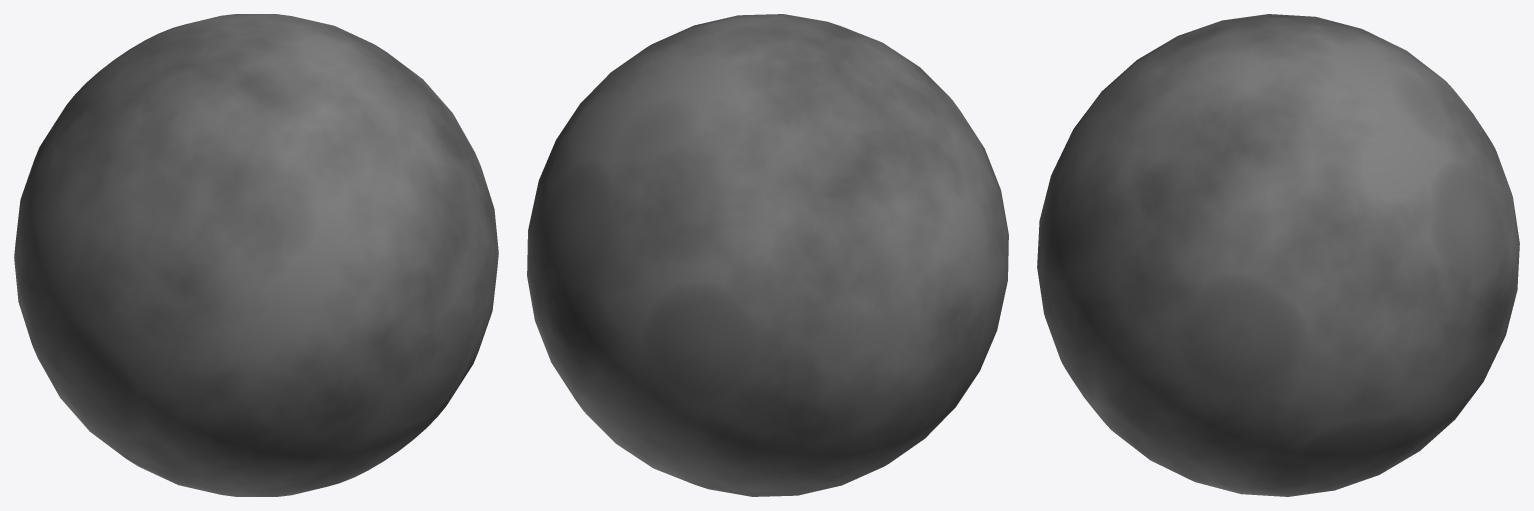
The model's file is Asteroid.dae.
3 renders of one model, left to right at view 1: azimuth 30°, elevation 25°; view 2: azimuth 150°, elevation 25°; view 3: azimuth 270°, elevation 25°, orthographic.
Parts seen in each view (by area): view 1: Sphere; view 2: Sphere; view 3: Sphere.
Boxes of the visible parts, bbox=[...] form: Sphere: bbox=[14, 14, 498, 496]; Sphere: bbox=[527, 14, 1008, 496]; Sphere: bbox=[1037, 14, 1519, 496].
Size of the model in its own units: 2 by 2 by 2.
